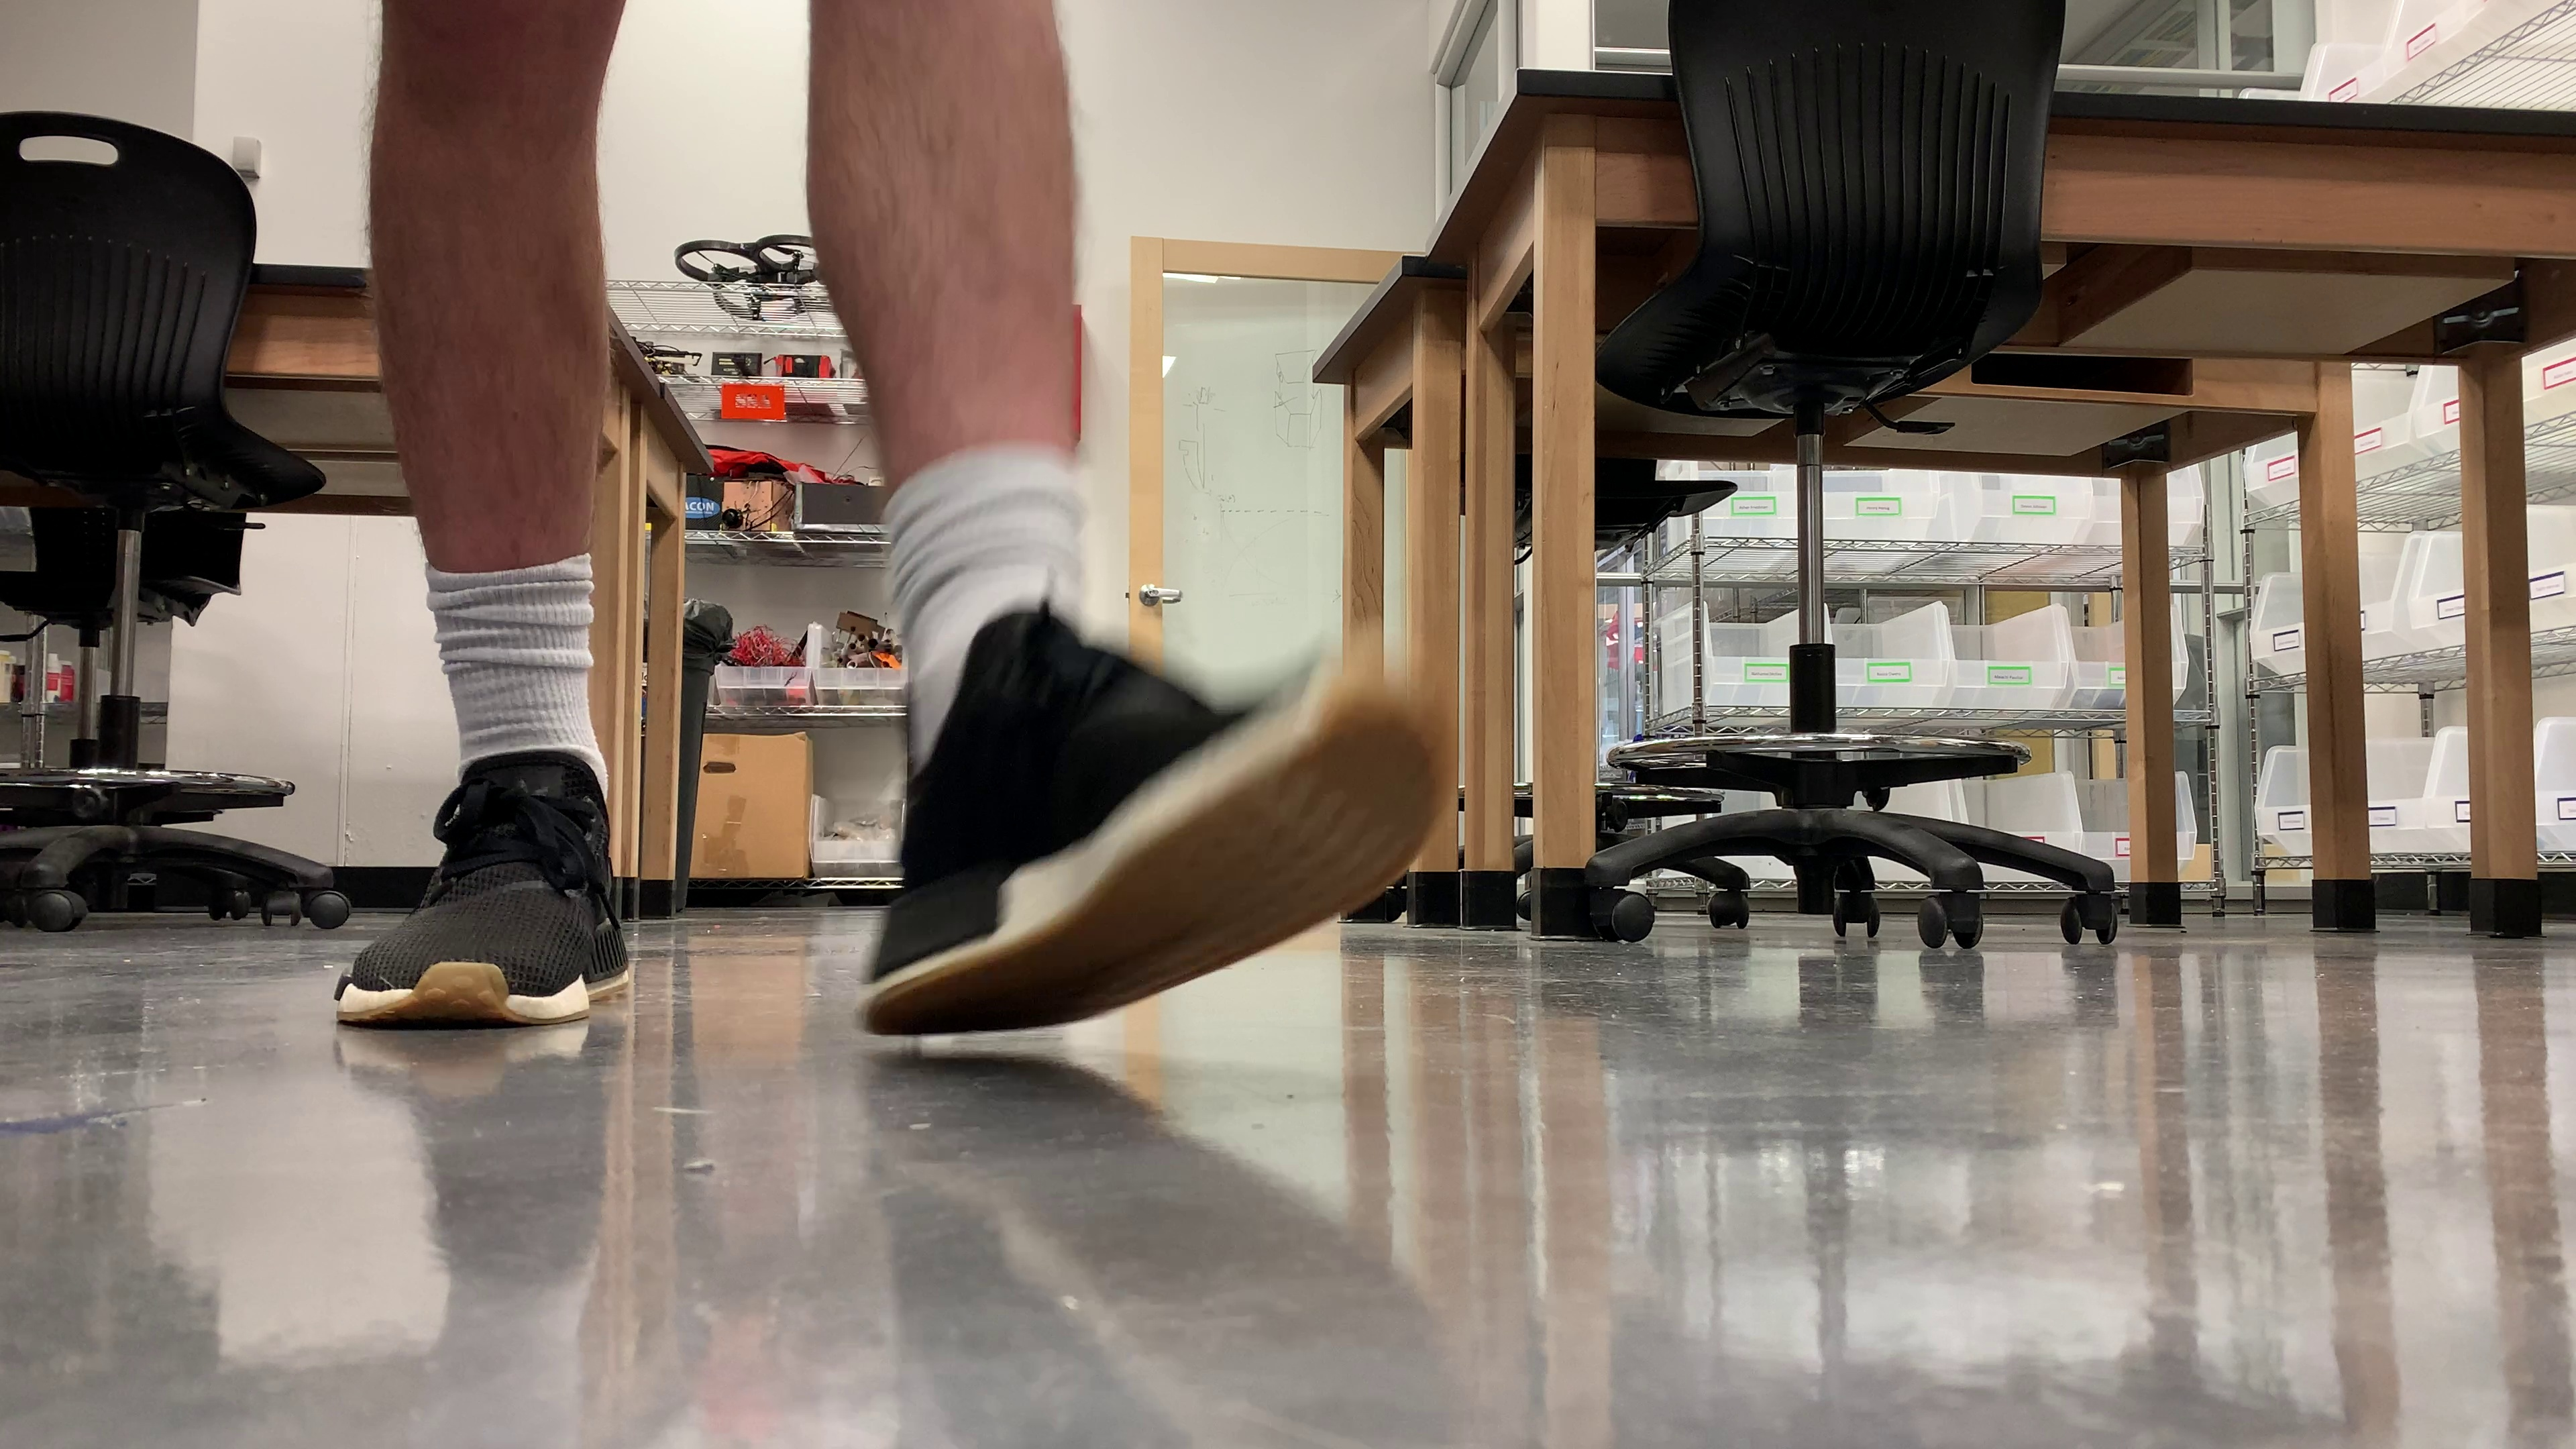shoe: (858, 609, 1435, 1033), (336, 750, 630, 1024)
